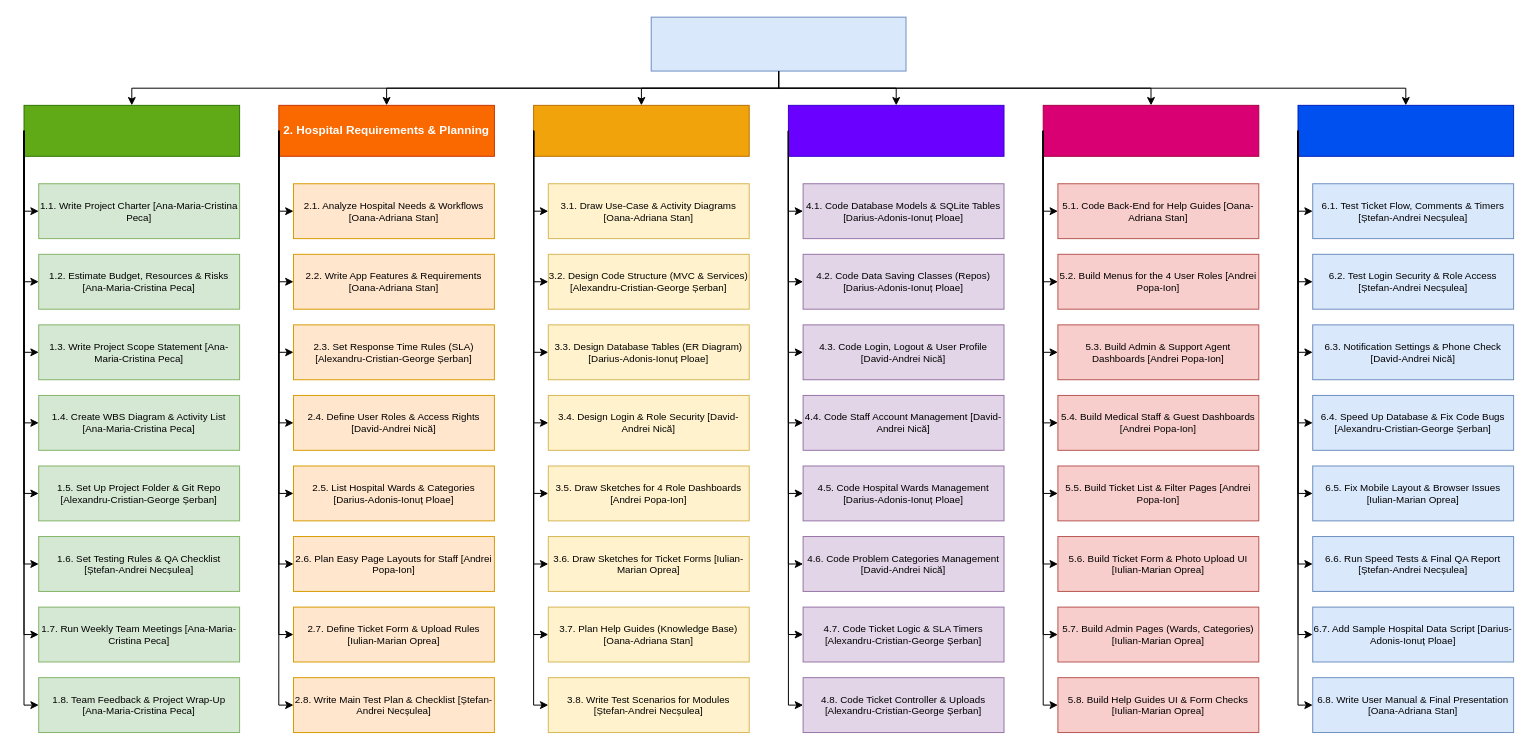
The diagram is 1531 pixels wide and 750 high, and some of its shapes have lost their labels. Here are the shapes that lost their labels. From the top down, the box of each, then its label:
(650, 16, 906, 71): Hospital Helpdesk Web App (MedCare Helpdesk)
(23, 104, 240, 156): 1. Project Management
(533, 104, 749, 156): 3. System Design & Diagrams
(787, 104, 1004, 156): 4. Database & Back-End Coding
(1042, 104, 1259, 156): 5. Front-End Pages & Help Guides
(1297, 104, 1514, 156): 6. Testing, Sample Data & Final Handover
